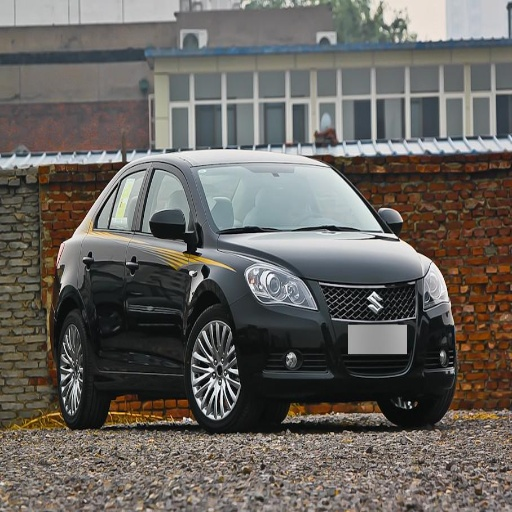front_bumper: (234, 277, 454, 398)
front_right_door: (127, 163, 198, 367)
front_right_light: (245, 260, 317, 311)
hood: (226, 234, 429, 282)
